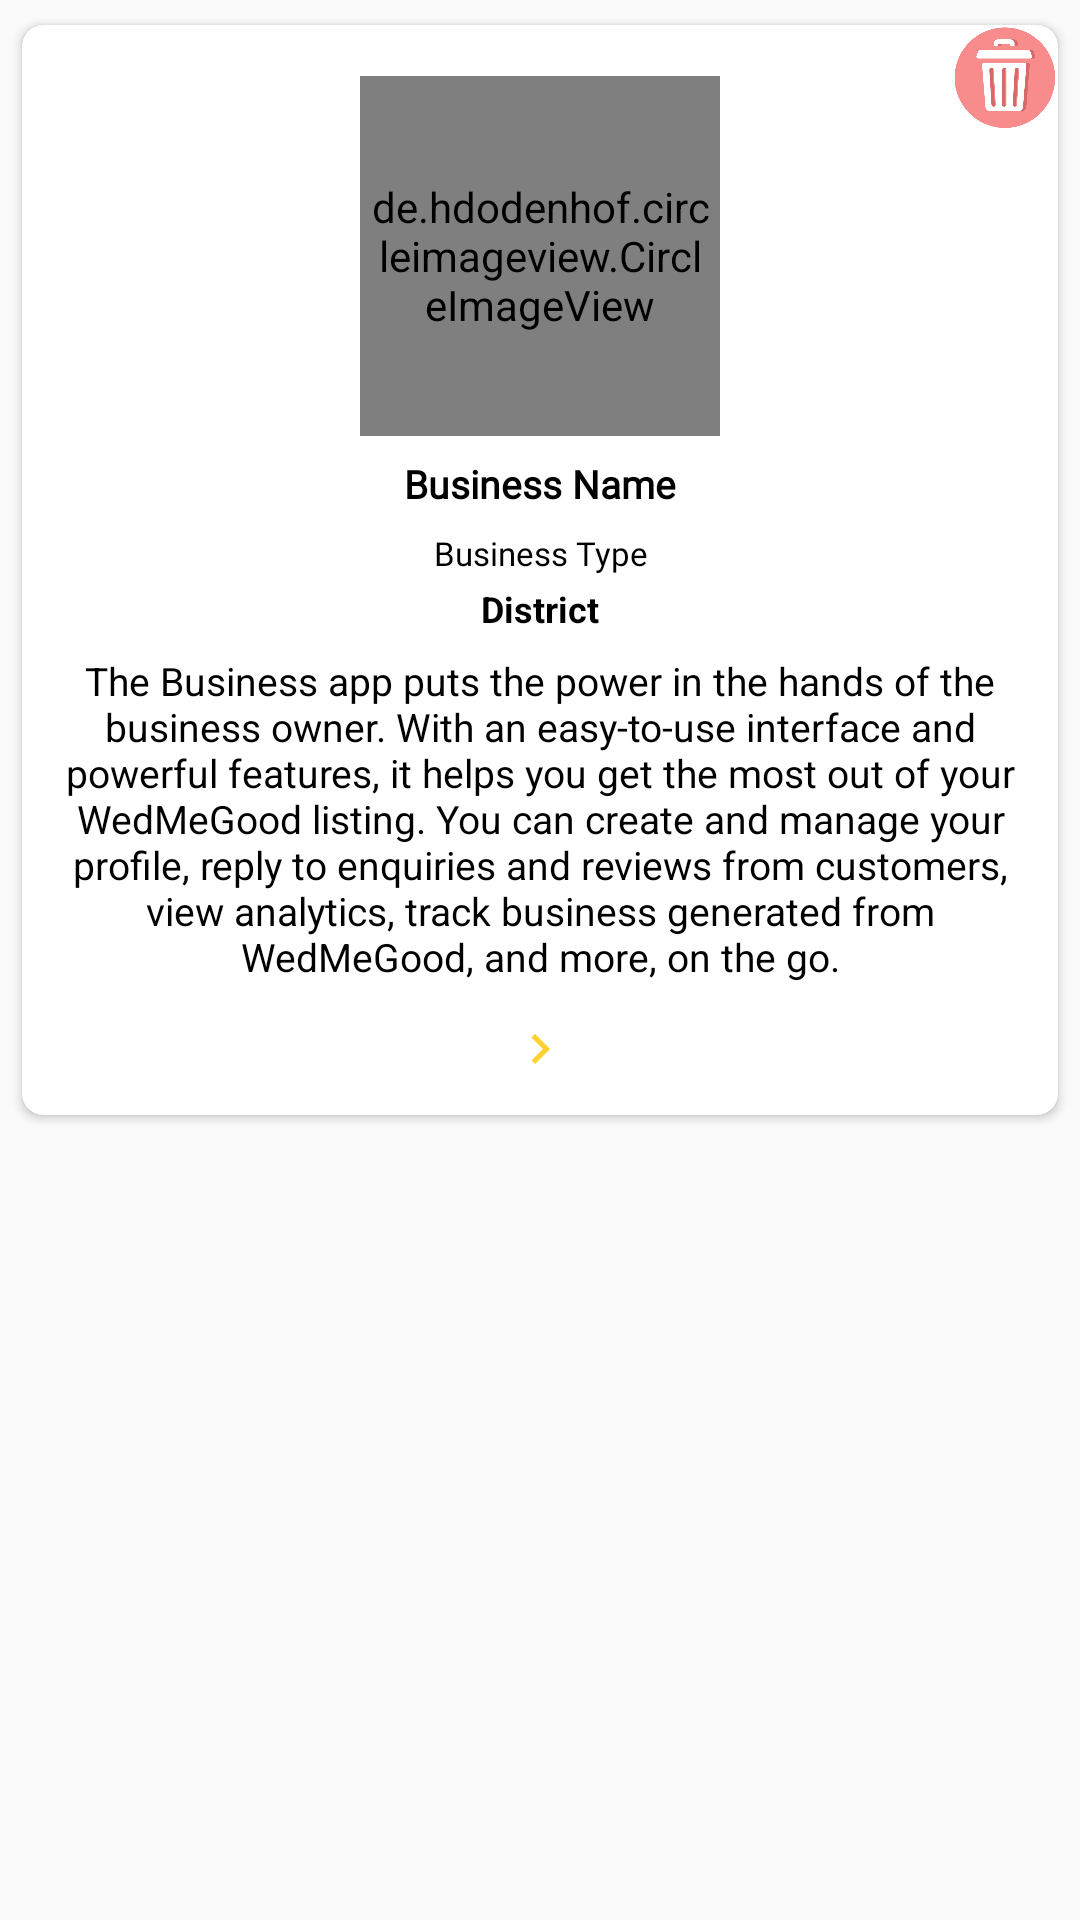

Named icons in this screenshot (1080 × 1920) and their bounding boxes, (x1, y1, x2, y2):
chevron right: (531, 1034, 550, 1064)
delete: (955, 27, 1055, 128)
